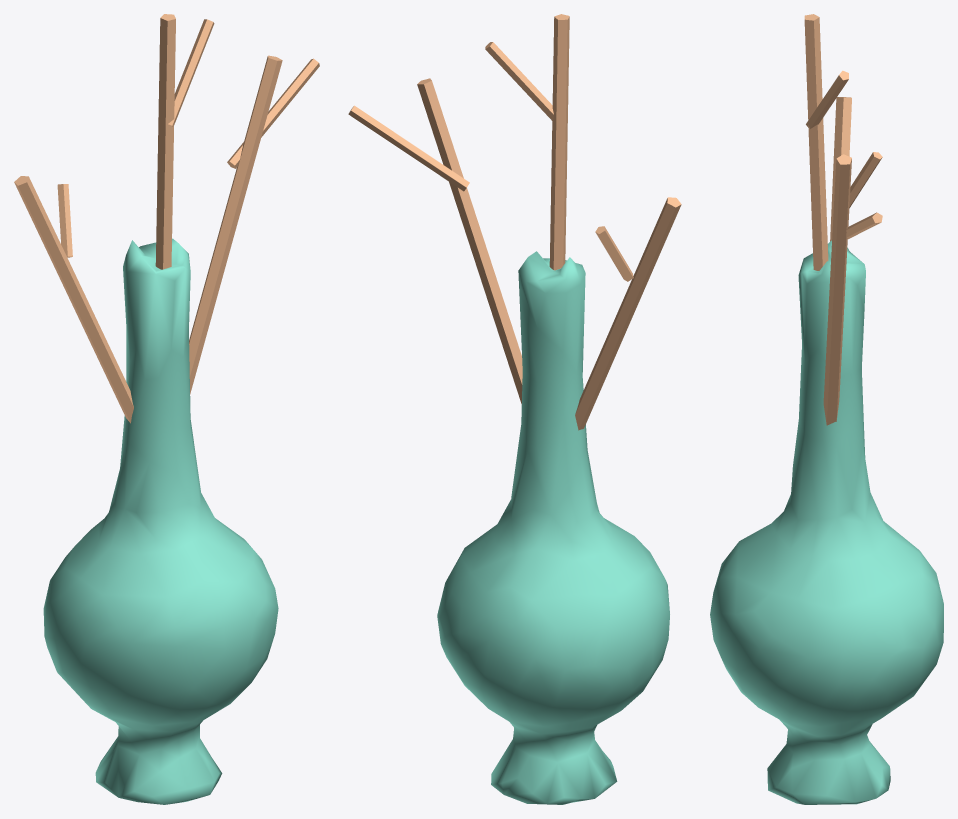
The picture shows the model from 3 angles, left to right: view 1: azimuth 30°, elevation 25°; view 2: azimuth 150°, elevation 25°; view 3: azimuth 270°, elevation 25°; orthographic projection.
Parts seen in each view (by area): view 1: 가지 장식 꽃병, Display branch.001, Display branch, Display branch.002, Display twig.002, Display twig.001, Display twig; view 2: 가지 장식 꽃병, Display branch.001, Display branch.002, Display branch, Display twig.001, Display twig.002, Display twig; view 3: 가지 장식 꽃병, Display branch.001, Display branch.002, Display branch, Display twig.002, Display twig, Display twig.001.
Part boxes in pixels (x1,y1,x2,y2): 가지 장식 꽃병: [43, 238, 278, 804]; Display branch.001: [189, 55, 282, 394]; Display branch: [14, 176, 133, 423]; Display branch.002: [155, 14, 175, 269]; Display twig.002: [168, 19, 214, 126]; Display twig.001: [227, 58, 319, 168]; Display twig: [57, 184, 72, 257]; 가지 장식 꽃병: [437, 251, 669, 804]; Display branch.001: [417, 78, 522, 403]; Display branch.002: [549, 14, 569, 270]; Display branch: [575, 197, 681, 430]; Display twig.001: [348, 105, 469, 191]; Display twig.002: [485, 42, 553, 121]; Display twig: [595, 226, 633, 281]; 가지 장식 꽃병: [710, 240, 943, 804]; Display branch.001: [823, 154, 851, 425]; Display branch.002: [804, 14, 828, 270]; Display branch: [830, 97, 851, 241]; Display twig.002: [806, 70, 848, 128]; Display twig: [849, 152, 882, 208]; Display twig.001: [846, 212, 882, 239].
Bounding box in the file's own units: 44.2 × 102 × 28.16.
